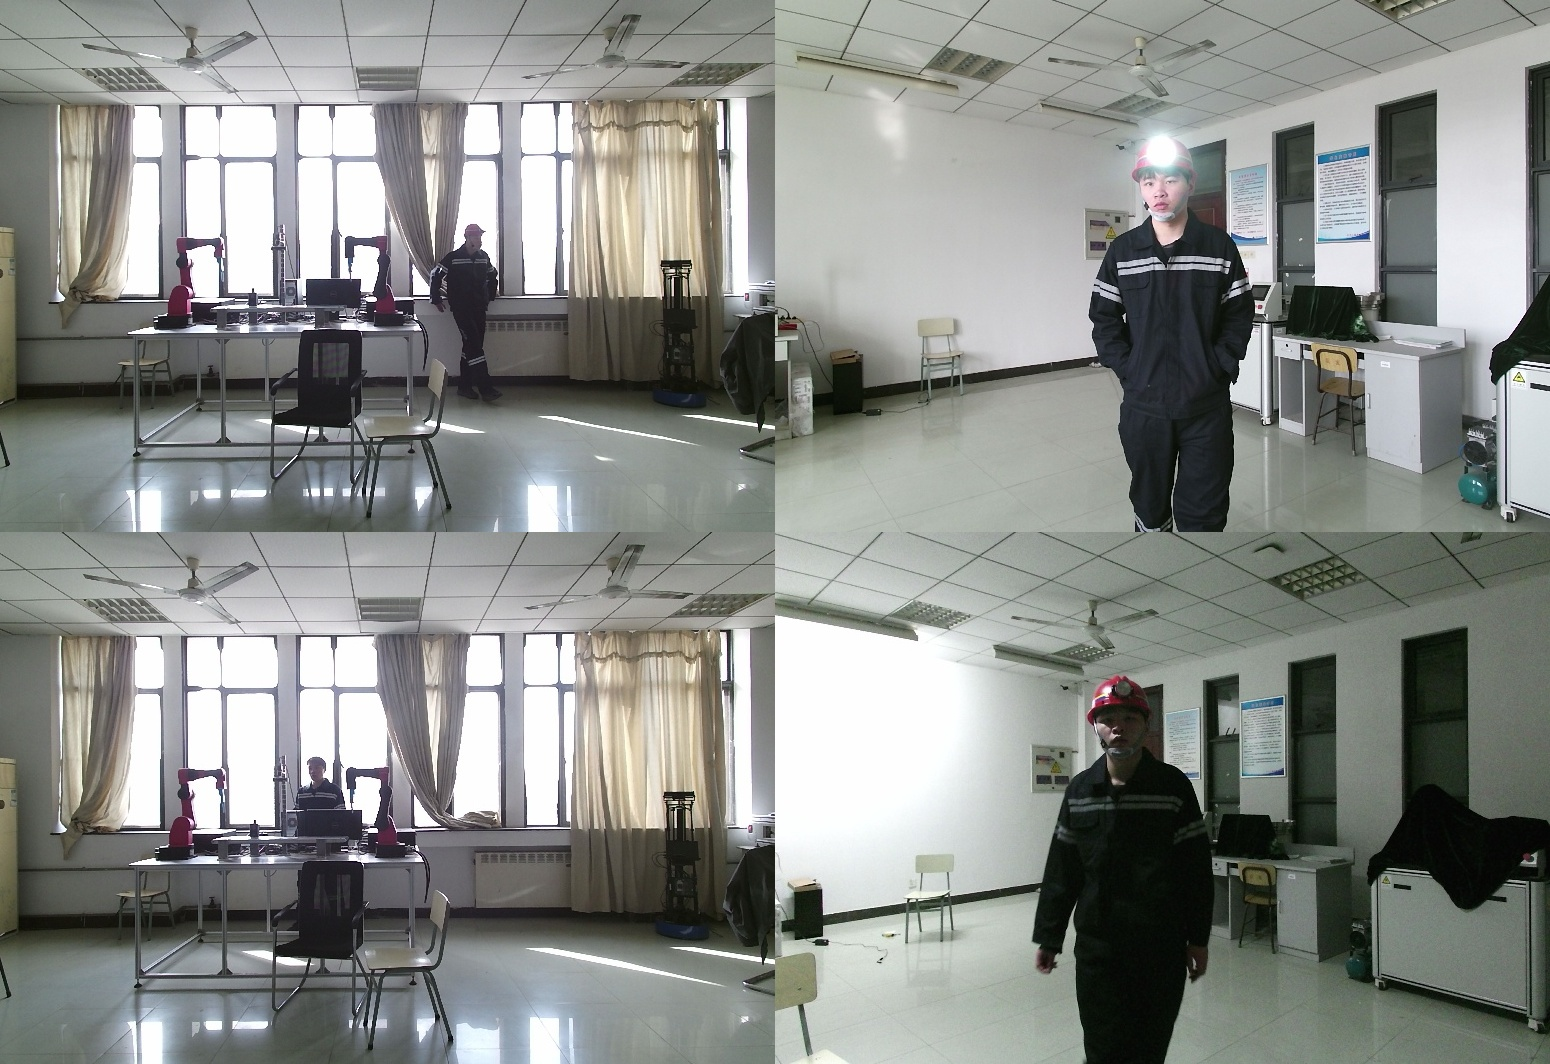person: (1032, 673, 1228, 1064), (1089, 136, 1264, 532), (433, 226, 516, 406), (288, 759, 358, 839)
